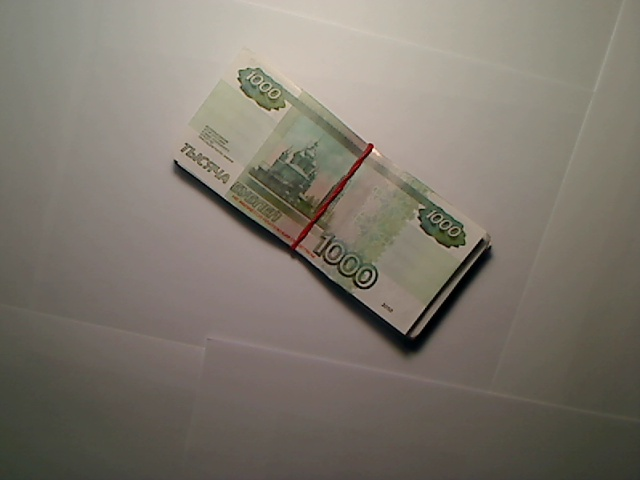banknotes: (167, 43, 498, 355)
